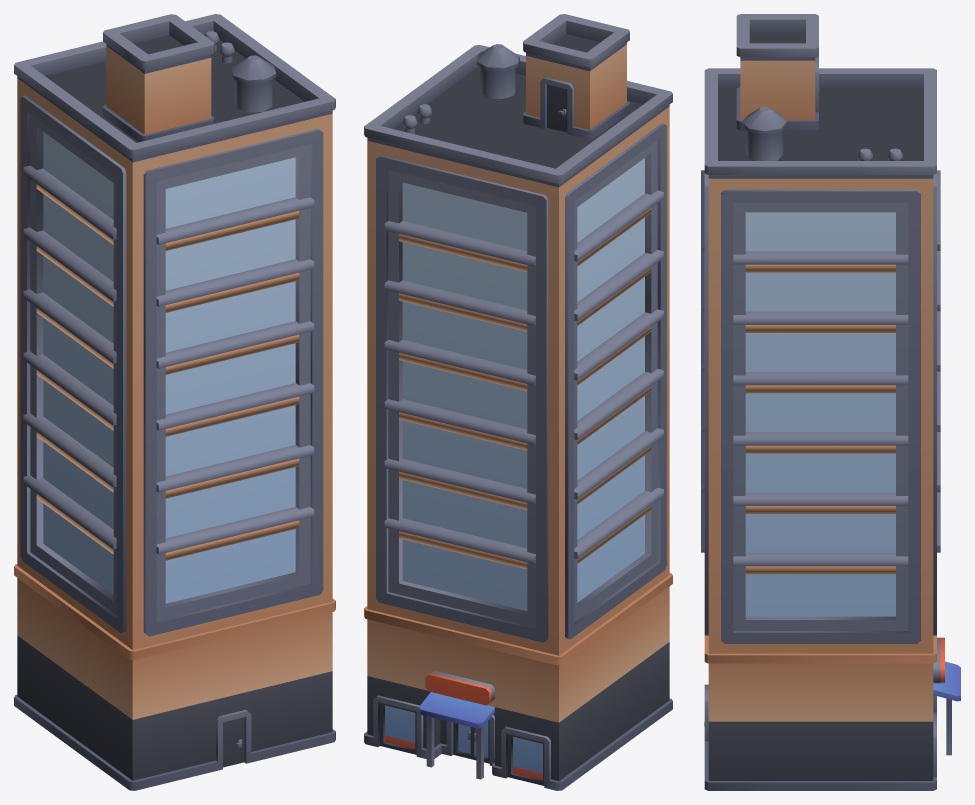
The model's file is building-skyscraper-c.glb.
3 renders of one model, left to right at view 1: azimuth 30°, elevation 25°; view 2: azimuth 150°, elevation 25°; view 3: azimuth 270°, elevation 25°, orthographic. The views are drawn at different scales.
Visible parts, largest first — view 1: building-skyscraper-c; view 2: building-skyscraper-c; view 3: building-skyscraper-c.
Boxes of the visible parts, x1,y1,x2,y2 form: building-skyscraper-c: (14, 14, 335, 790); building-skyscraper-c: (364, 14, 672, 790); building-skyscraper-c: (701, 14, 960, 790).
Bounding box in the file's own units: 1.28 × 4.08 × 1.39.
1 material, 1 textured.
